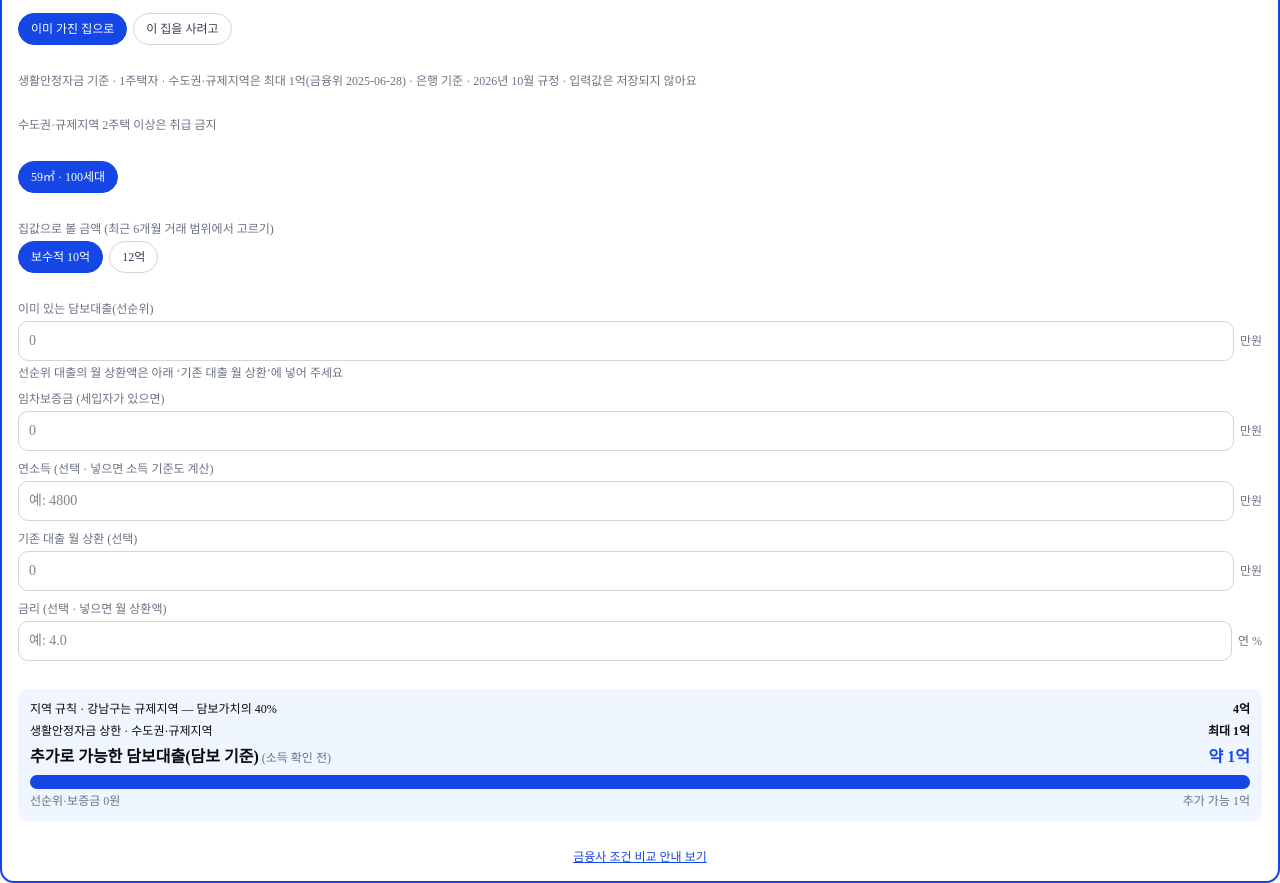
Scenario: LoanEstimateSection — 공통 › 금융사 안내 링크 문단만 기본 닫힘 — 계산 전제(1주택자·2주택 금지)는 닫힌 채로도 보인다(맹점🟠3)
The image size is (1280, 883).
(page scrolled)
Expected: the text with test id "consumer-loan-basis" shows "1주택자", [18,74,697,88]
Expected: the text "수도권·규제지역 2주택 이상은 취급 금지" is shown, [18,118,217,132]
Click the button with test id "consumer-loan-notes-toggle" at (640, 857), box [18,849,1262,865]
(page scrolled)
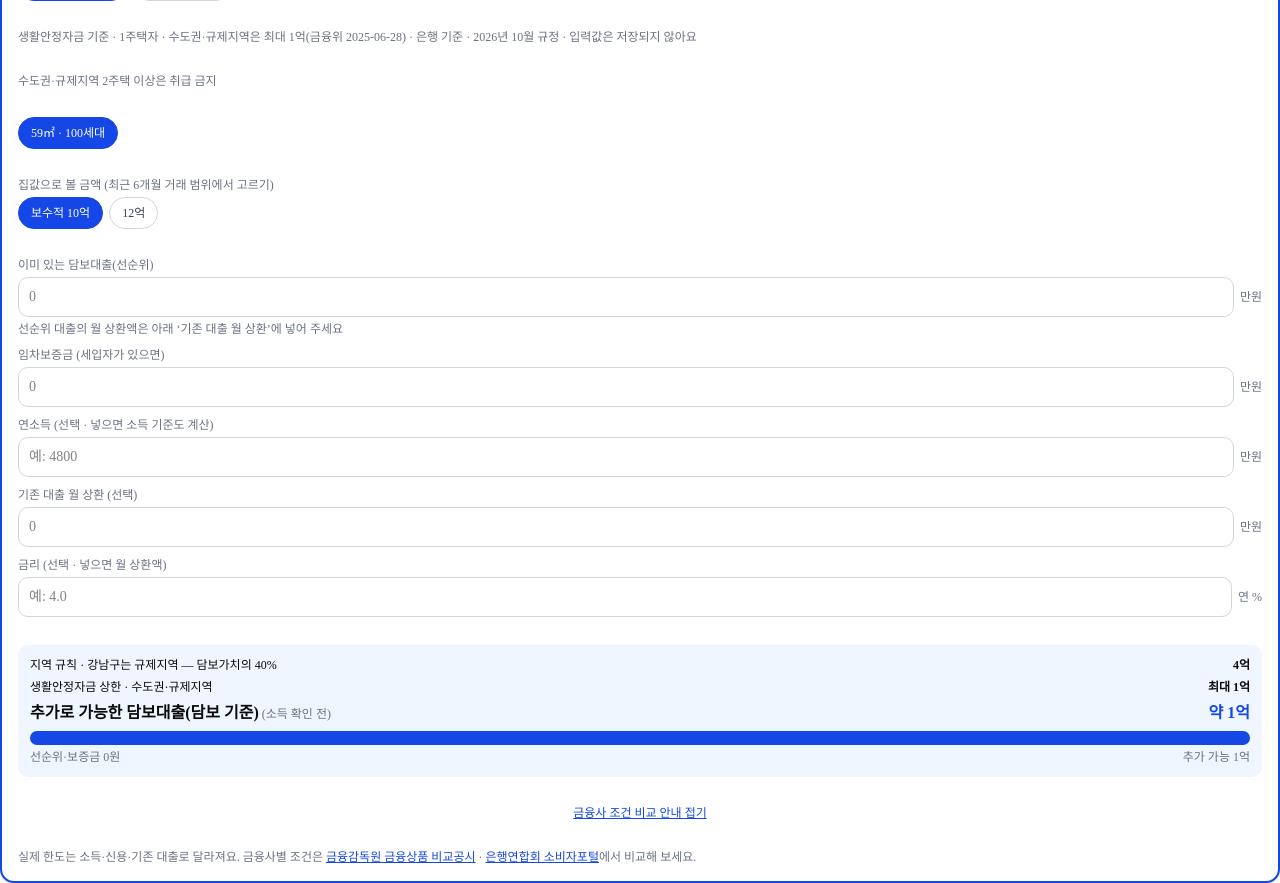
Expected: the button with test id "consumer-loan-notes-toggle" is expanded, [18,805,1262,821]
Expected: the element with test id "consumer-loan-notes" is shown, [18,850,696,864]
